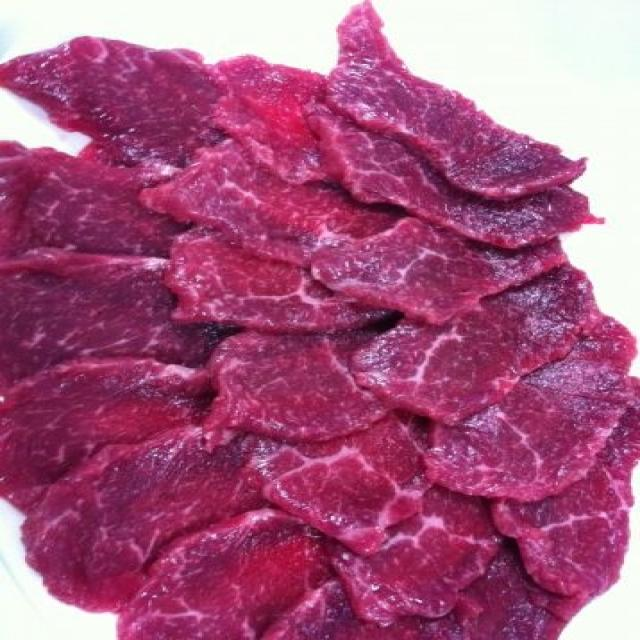刺身生食: (25, 19, 633, 632)
